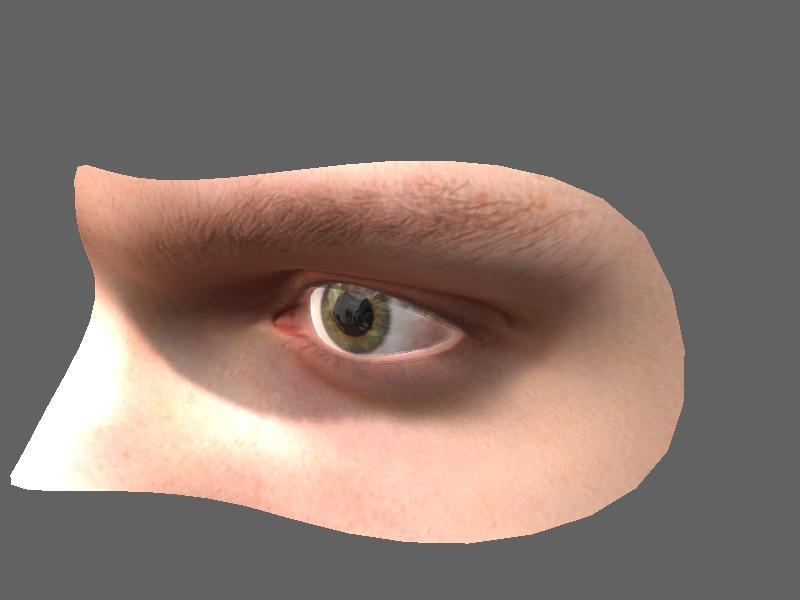iris: (317, 280, 403, 355)
